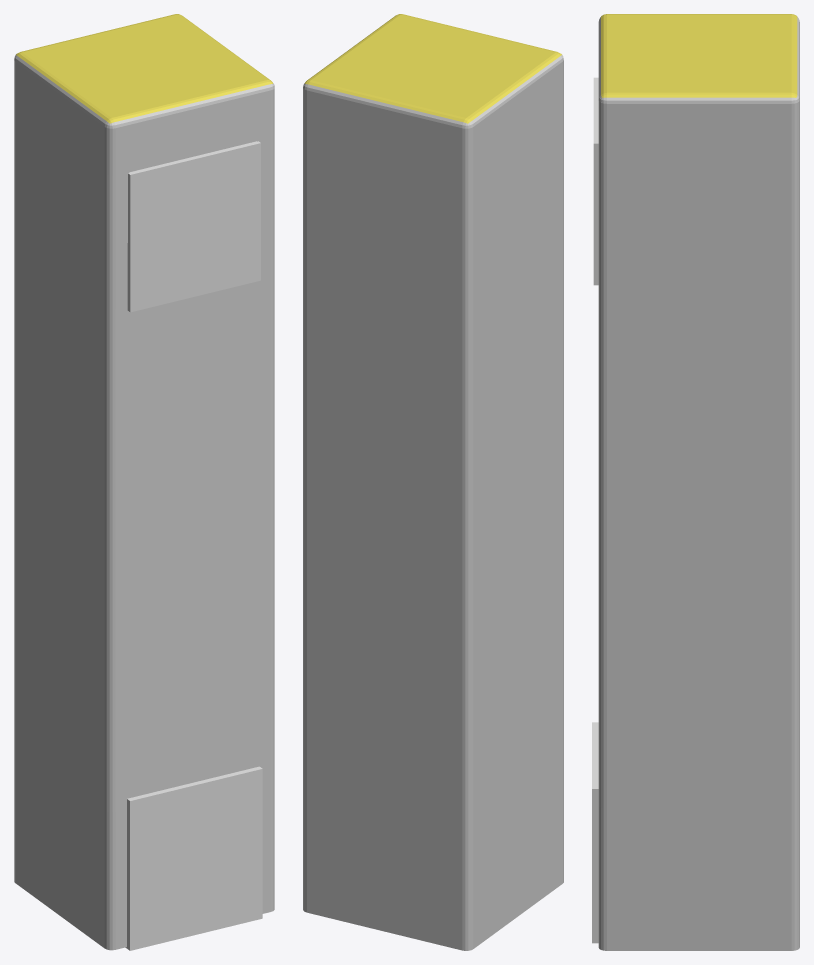
The model's file is SM_Fishiville_OpenBuilding_001.fbx.
3 views of the same model, side by side, from view 1: azimuth 30°, elevation 25°; view 2: azimuth 150°, elevation 25°; view 3: azimuth 270°, elevation 25° (orthographic). The views are drawn at different scales.
Visible parts, largest first — view 1: Building_002.001, Cube.074, Cube.067, Cube.069, Cube.072, Cube.070, Cube.071, Cube.068, Cube.073; view 2: Building_002.001; view 3: Building_002.001, Cube.067, Cube.074.
Part boxes in pixels (x1=…): Building_002.001: x1=14, y1=14, x2=274, y2=950; Cube.074: x1=127, y1=141, x2=260, y2=312; Cube.067: x1=125, y1=766, x2=262, y2=950; Cube.069: x1=169, y1=796, x2=218, y2=870; Cube.072: x1=169, y1=868, x2=218, y2=940; Cube.070: x1=223, y1=787, x2=255, y2=857; Cube.071: x1=223, y1=859, x2=255, y2=921; Cube.068: x1=138, y1=809, x2=163, y2=878; Cube.073: x1=138, y1=881, x2=163, y2=942; Building_002.001: x1=303, y1=14, x2=563, y2=950; Building_002.001: x1=598, y1=14, x2=799, y2=950; Cube.067: x1=592, y1=722, x2=598, y2=943; Cube.074: x1=593, y1=77, x2=598, y2=285.
Size of the model in its own units: 704 by 3306 by 727.
